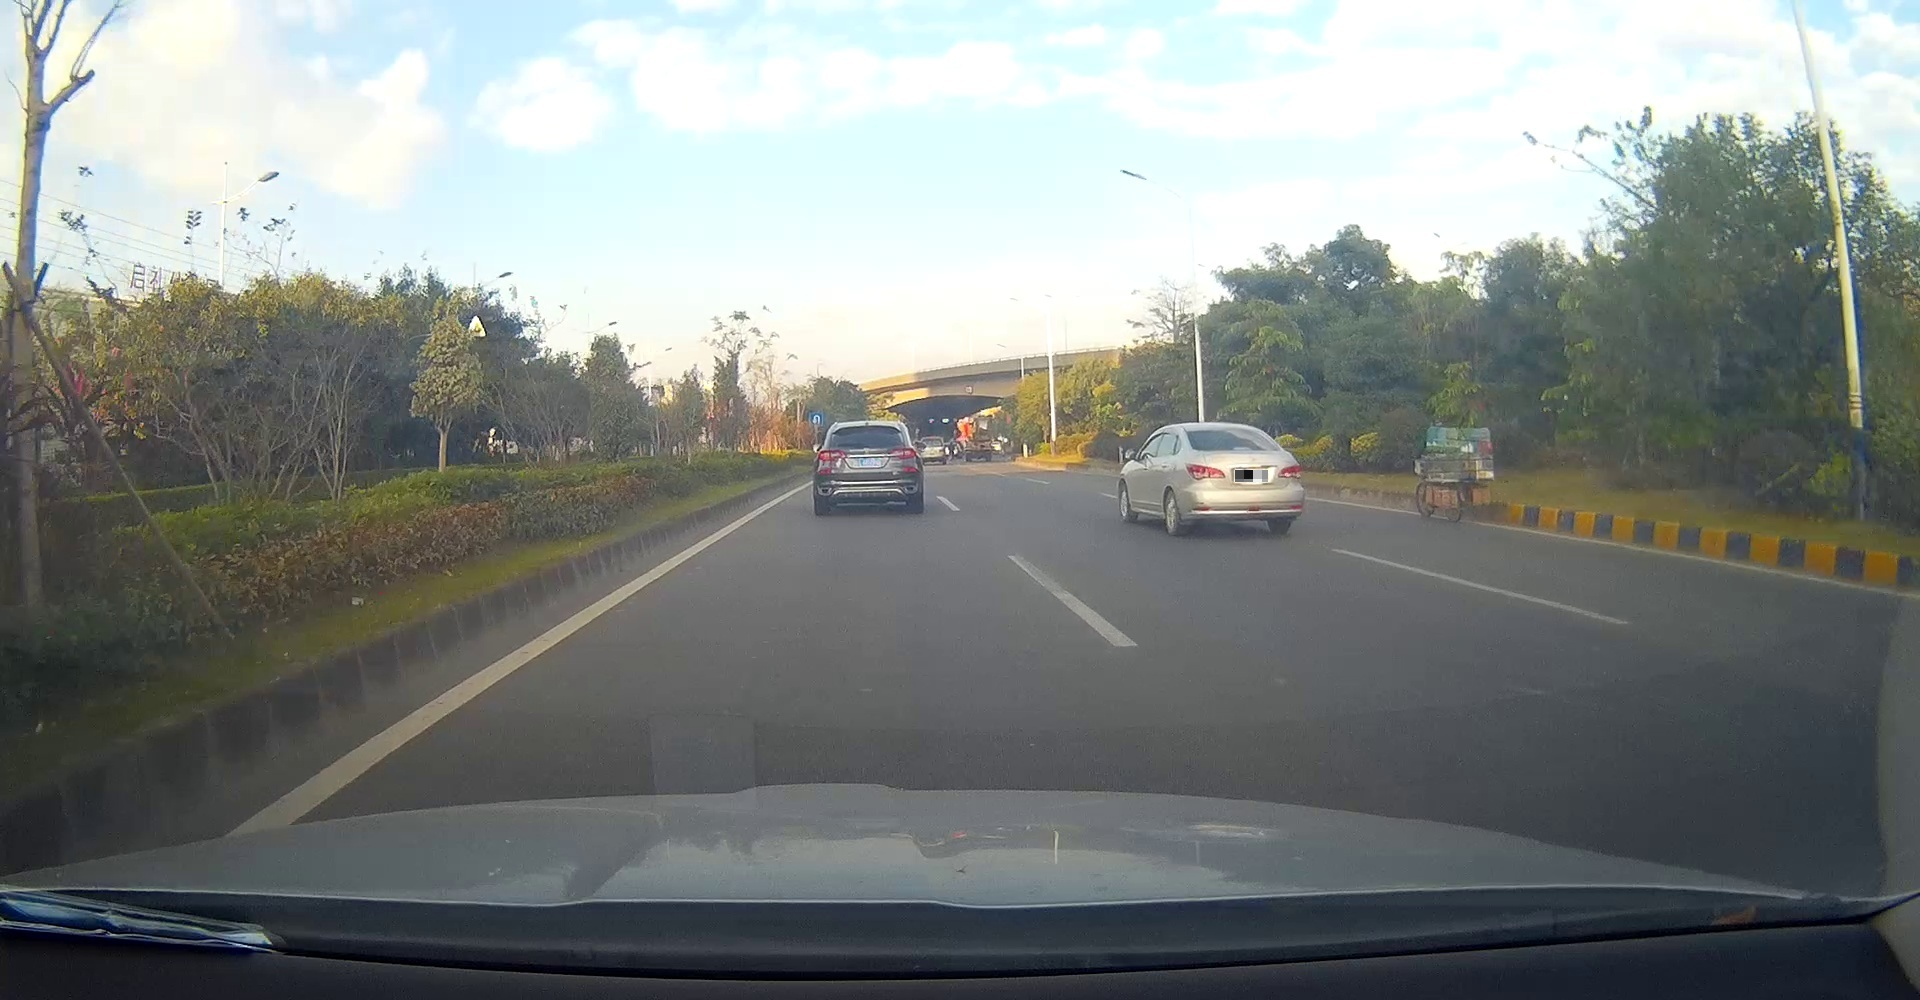L_light: (1183, 463, 1225, 480), (818, 449, 847, 461)
R_light: (888, 447, 917, 459), (1277, 464, 1303, 478)
T_light: (1230, 445, 1253, 452), (858, 423, 872, 428)
day-no: (1180, 423, 1303, 536), (817, 421, 919, 515)
plate_1: (1236, 470, 1269, 482)
